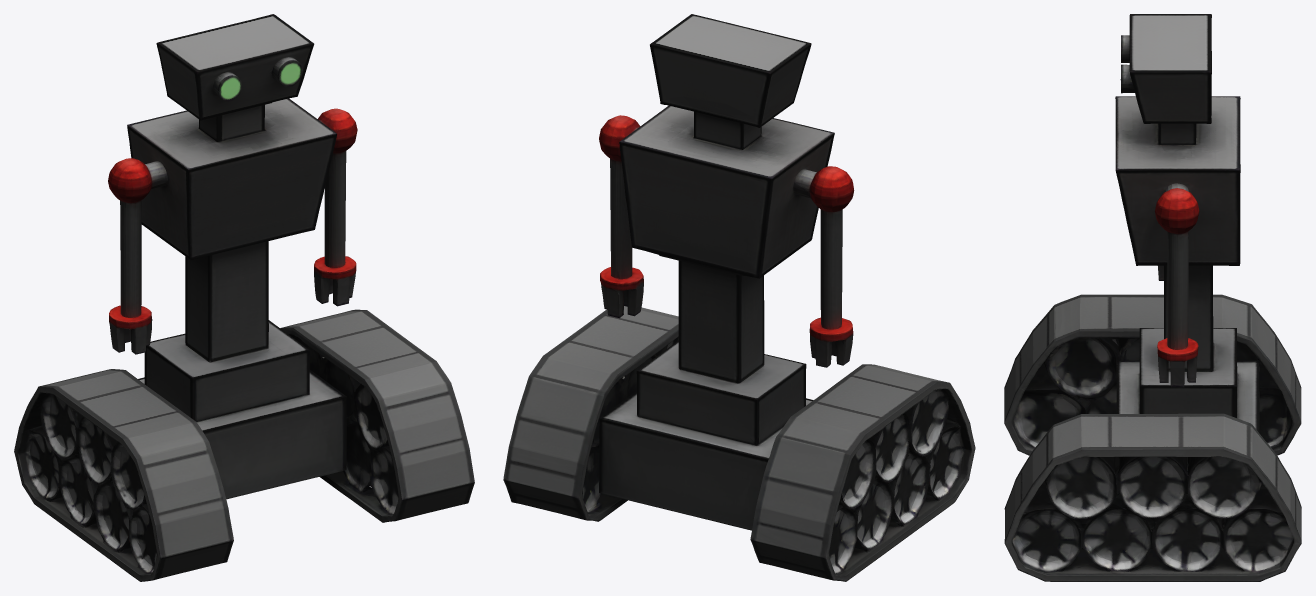
Rendered from PartObjaverseTiny_Four.glb.
3 views of the same model, side by side, from view 1: azimuth 30°, elevation 25°; view 2: azimuth 150°, elevation 25°; view 3: azimuth 270°, elevation 25° (orthographic). The views are drawn at different scales.
Visible parts, largest first — view 1: world; view 2: world; view 3: world.
Part boxes in pixels (bbox=[...]): world: bbox=[14, 14, 474, 581]; world: bbox=[503, 14, 975, 581]; world: bbox=[1004, 14, 1301, 581].
Size of the model in its own units: 0.7235 by 1 by 0.5849.
1 material, 1 textured.
